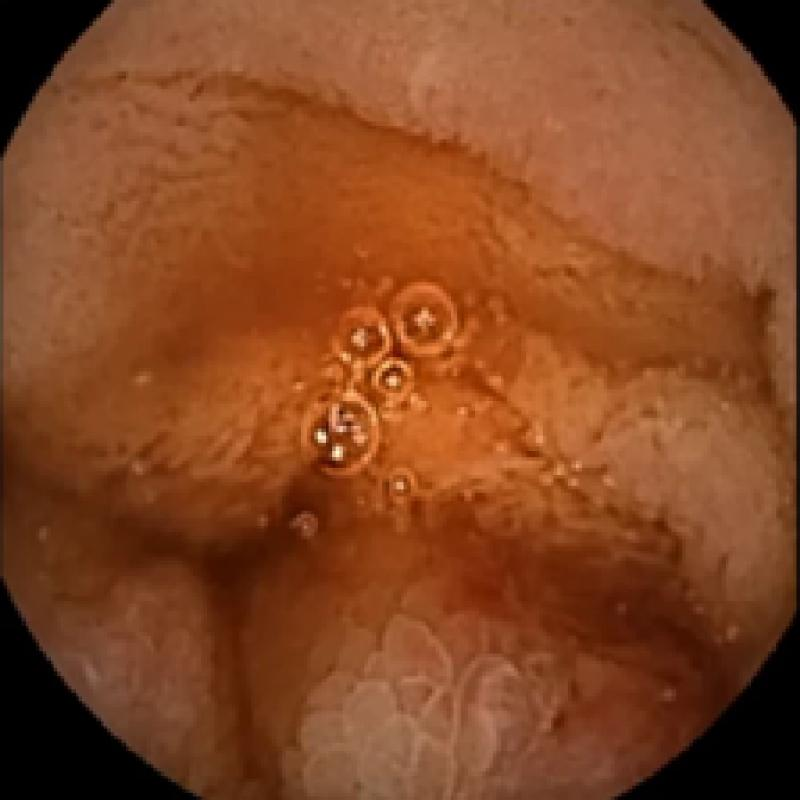bleeding: (186, 454, 728, 782)
